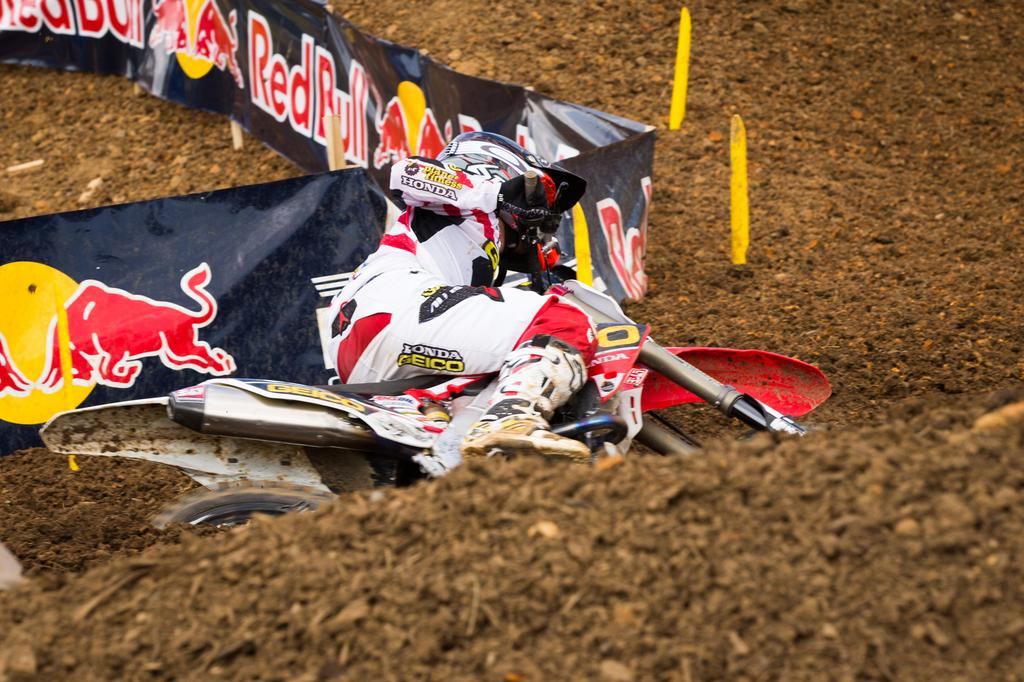helmet: (427, 131, 588, 274)
